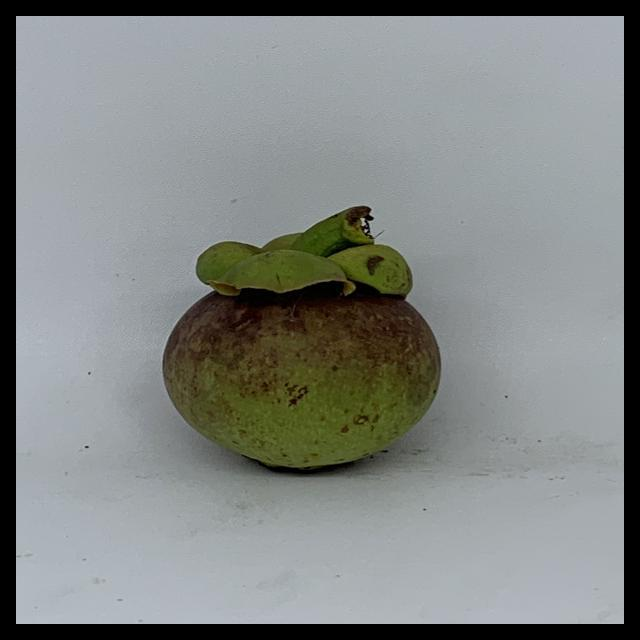mangosteen: (164, 202, 484, 482)
